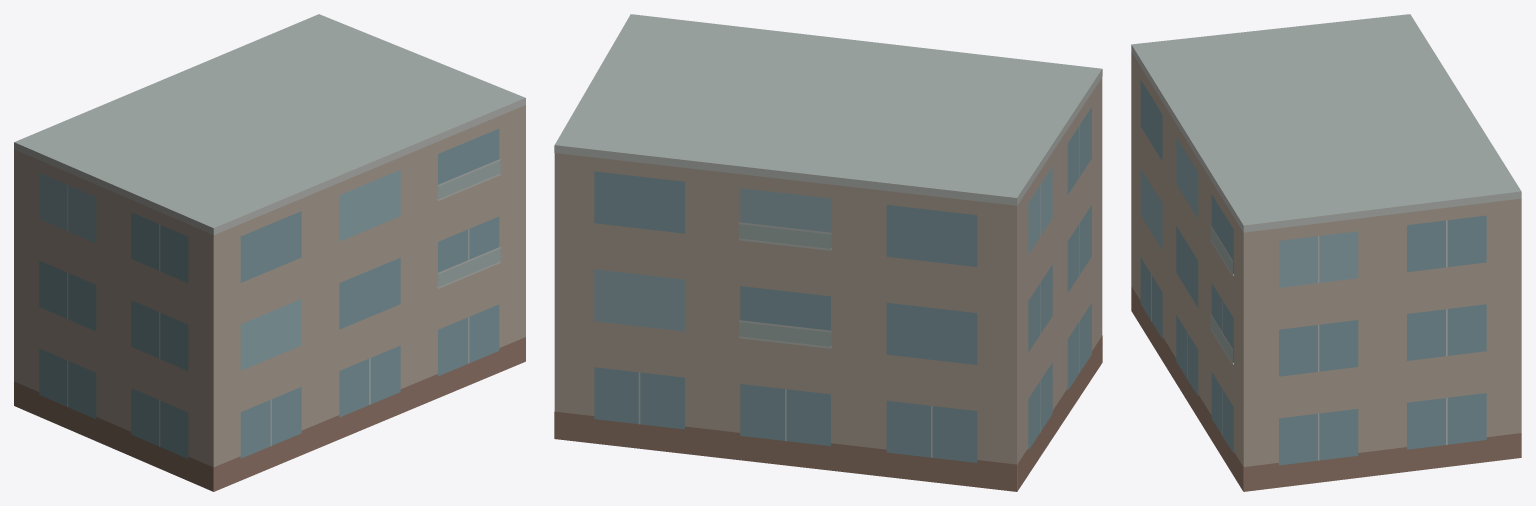
File: survey-upis-32586952.glb
3 views of the same model, side by side, from view 1: azimuth 30°, elevation 25°; view 2: azimuth 150°, elevation 25°; view 3: azimuth 270°, elevation 25° (orthographic). The views are drawn at different scales.
Visible parts, largest first — view 1: survey-upis-32586952.tmp; view 2: survey-upis-32586952.tmp; view 3: survey-upis-32586952.tmp.
Part boxes in pixels (x1,y1,x2,y2): survey-upis-32586952.tmp: (14,14,525,491); survey-upis-32586952.tmp: (554,14,1102,491); survey-upis-32586952.tmp: (1131,14,1521,491).
Bounding box in the file's own units: 15.6 × 9.15 × 12.16.
